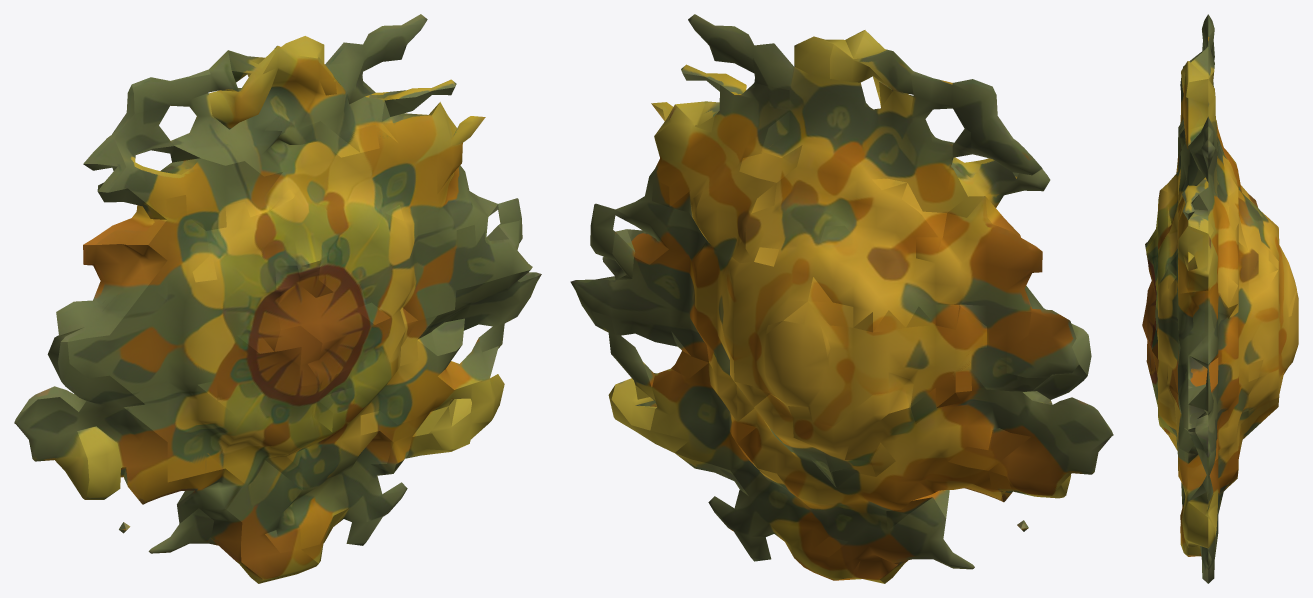
Rendered from PlantFlowerField.glb.
3 renders of one model, left to right at view 1: azimuth 30°, elevation 25°; view 2: azimuth 150°, elevation 25°; view 3: azimuth 270°, elevation 25°, orthographic. The views are drawn at different scales.
Visible parts, largest first — view 1: tmp7xprjoxy.ply; view 2: tmp7xprjoxy.ply; view 3: tmp7xprjoxy.ply.
Boxes of the visible parts, x1=… form: tmp7xprjoxy.ply: x1=14, y1=14, x2=541, y2=583; tmp7xprjoxy.ply: x1=570, y1=14, x2=1113, y2=583; tmp7xprjoxy.ply: x1=1142, y1=14, x2=1298, y2=583.
Size of the model in its own units: 1.68 by 1.62 by 0.4764.
Materials: 1 (1 with a texture image).
